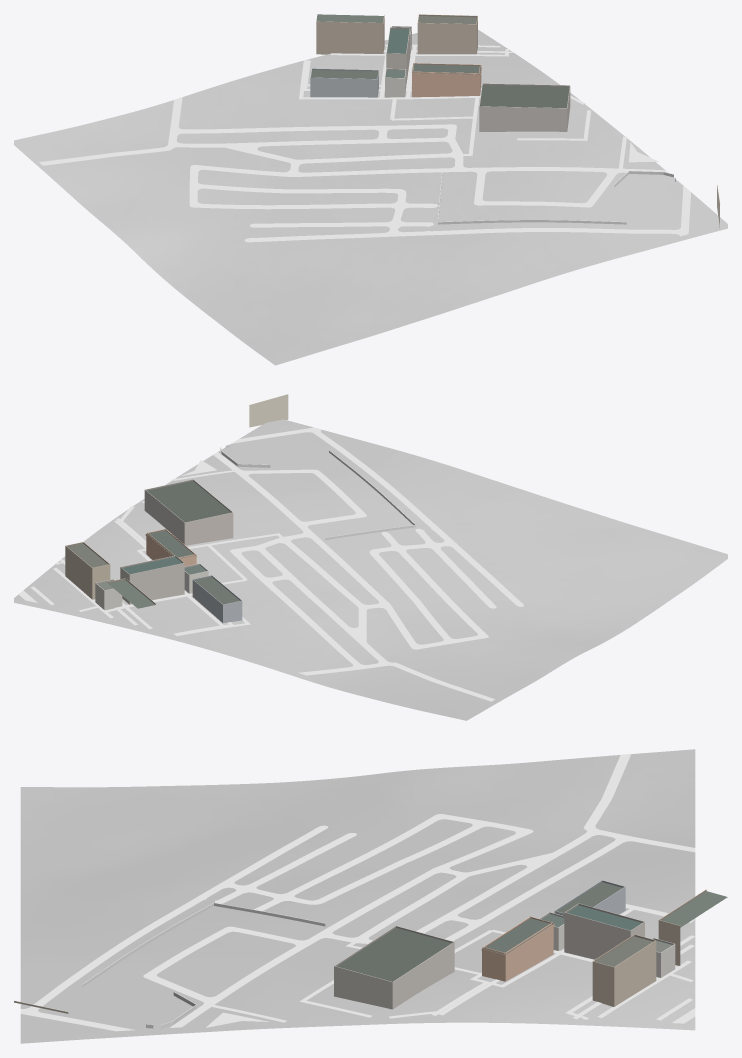
The picture shows the model from 3 angles, top to bottom: view 1: azimuth 30°, elevation 25°; view 2: azimuth 150°, elevation 25°; view 3: azimuth 270°, elevation 25°; orthographic projection. The views are drawn at different scales.
Parts seen in each view (by area): view 1: t0_-9_-1; view 2: t0_-9_-1; view 3: t0_-9_-1.
Part boxes in pixels (x1,y1,x2,y2): t0_-9_-1: (14,14,727,365); t0_-9_-1: (14,394,727,720); t0_-9_-1: (14,749,727,1043).
Bounding box in the file's own units: 261 × 41.14 × 271.
